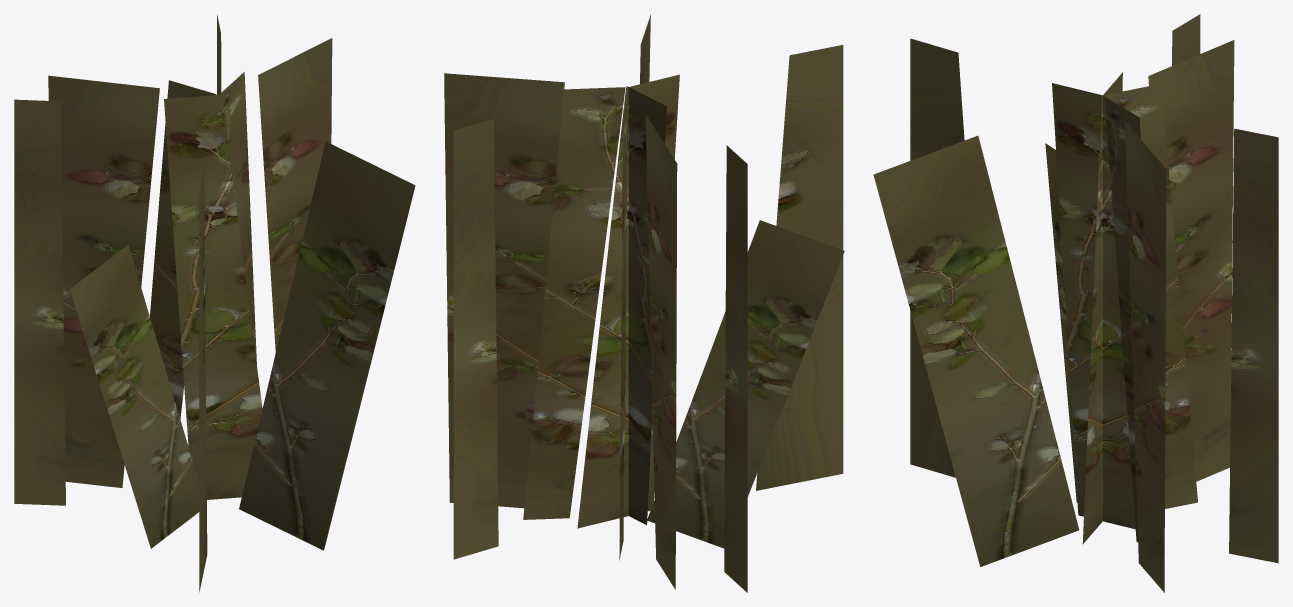
3 views of the same model, side by side, from view 1: azimuth 30°, elevation 25°; view 2: azimuth 150°, elevation 25°; view 3: azimuth 270°, elevation 25° (orthographic). The views are drawn at different scales.
Parts seen in each view (by area): view 1: Grass074; view 2: Grass074; view 3: Grass074.
Boxes of the visible parts, left/top/right/bottom form: Grass074: left=14, top=14, right=415, bottom=592; Grass074: left=444, top=14, right=844, bottom=592; Grass074: left=873, top=14, right=1278, bottom=592.
Bounding box in the file's own units: 13.28 × 16.87 × 13.81.
